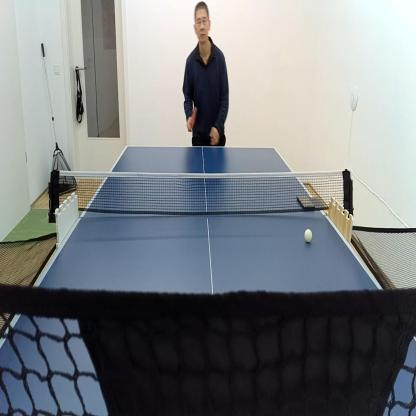Ball: (303, 227, 314, 245)
